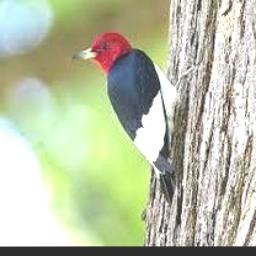Woodpecker: (71, 31, 194, 203)
